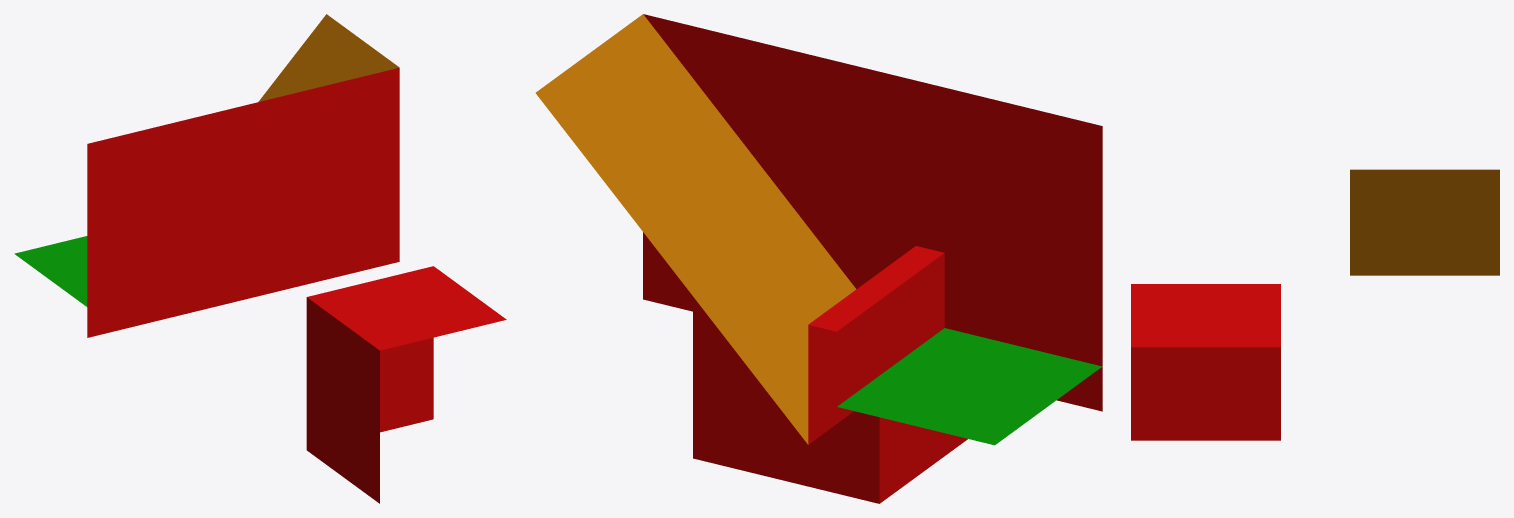
The picture shows the model from 3 angles, left to right: view 1: azimuth 30°, elevation 25°; view 2: azimuth 150°, elevation 25°; view 3: azimuth 270°, elevation 25°; orthographic projection. The views are drawn at different scales.
Parts seen in each view (by area): view 1: None_S_E_E_A_W_A_E_A_None; view 2: None_S_E_E_A_W_A_E_A_None; view 3: None_S_E_E_A_W_A_E_A_None.
Part boxes in pixels (<box>): None_S_E_E_A_W_A_E_A_None: <box>14,14,506,503</box>; None_S_E_E_A_W_A_E_A_None: <box>535,14,1102,503</box>; None_S_E_E_A_W_A_E_A_None: <box>1131,169,1499,440</box>.
Size of the model in its own units: 100 by 100 by 100.
